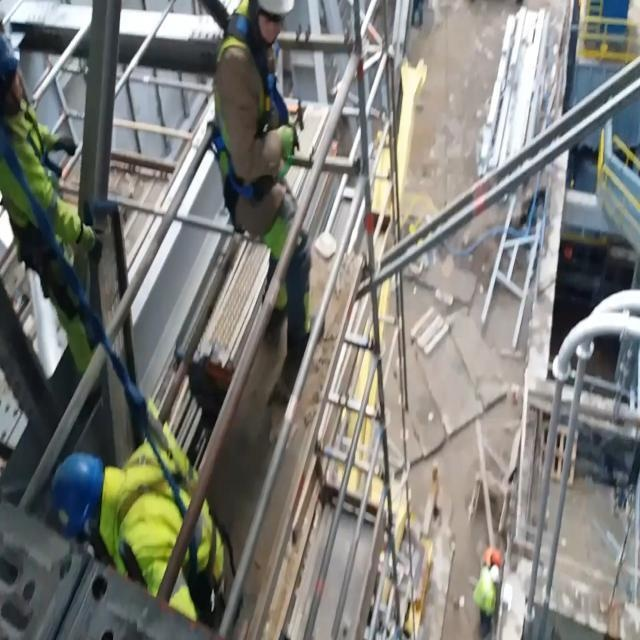Arnes_seguridad: (203, 15, 294, 216), (106, 443, 204, 592)
